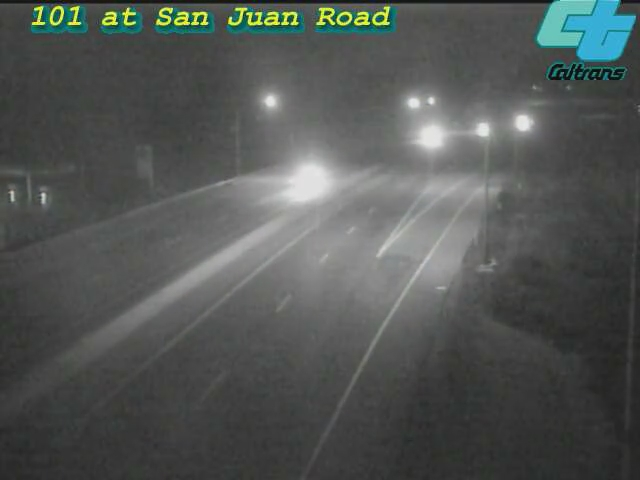vehicle: (270, 139, 350, 219), (403, 113, 453, 163), (459, 103, 509, 153), (497, 98, 547, 148)
